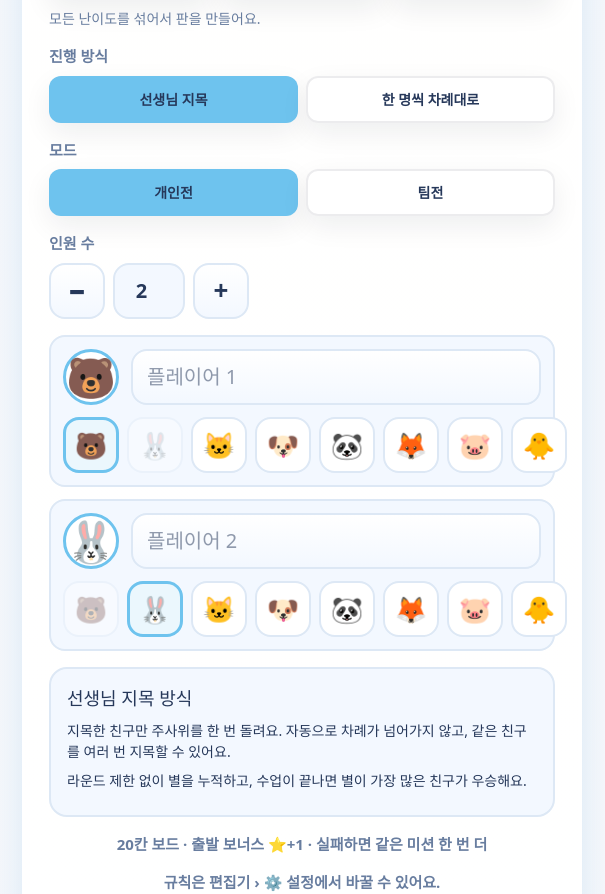
Test case: SetupView — animals (D-24, SETUP-07) › each participant card shows the avatar emoji and the name input
(page scrolled)
Expected: the number of list items with class "setup-participant" is 2, [49,335,555,487]; [49,499,555,651]
Expected: the text with class "animal-avatar" reads "🐻", [66,349,116,404]
What coordinates should you click on to do the following:
click the button named "여우"
I would click on:
 (411, 445)
Its box is [383,417,439,473].
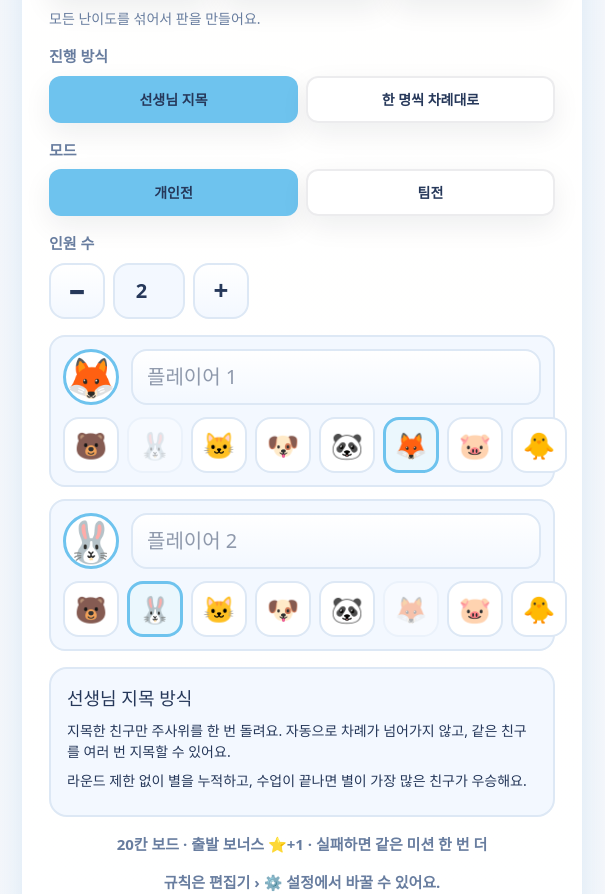
Result: the text with class "animal-avatar" reads "🦊" at [66,349,116,404]
